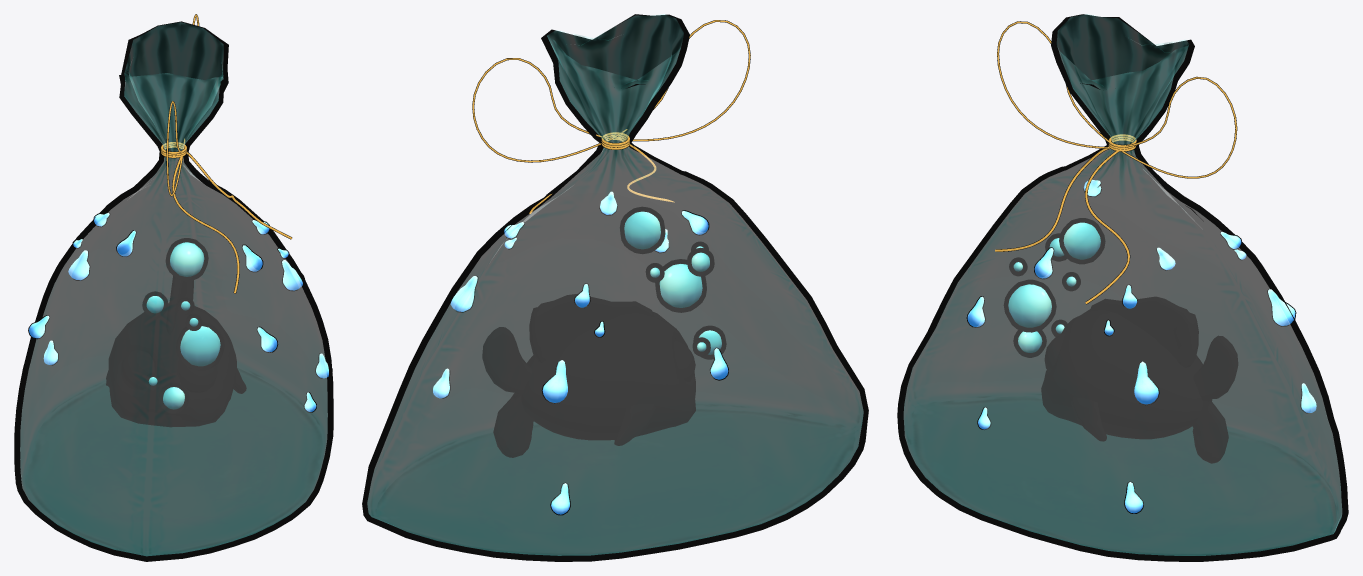
The model's file is grandprize_minigame.glb.
The picture shows the model from 3 angles, left to right: view 1: azimuth 30°, elevation 25°; view 2: azimuth 150°, elevation 25°; view 3: azimuth 270°, elevation 25°; orthographic projection. The views are drawn at different scales.
Parts seen in each view (by area): view 1: Sack_low (×2), Fish_low, Sphere_low (×2), Drop_low (×2), Rope_low (×2), Fisheye_low; view 2: Sack_low (×2), Fish_low, Sphere_low (×2), Drop_low (×2), Rope_low (×2), Fisheye_low; view 3: Sack_low (×2), Fish_low, Sphere_low (×2), Drop_low (×2), Rope_low (×2).
Part boxes in pixels (left/top/right/bottom): Sack_low (×2): left=14, top=21, right=333, bottom=561; Fish_low: left=106, top=275, right=246, bottom=427; Sphere_low (×2): left=142, top=238, right=224, bottom=413; Drop_low (×2): left=28, top=212, right=332, bottom=412; Rope_low (×2): left=160, top=14, right=292, bottom=293; Fisheye_low: left=120, top=350, right=217, bottom=392; Sack_low (×2): left=362, top=14, right=868, bottom=561; Fish_low: left=482, top=294, right=695, bottom=457; Sphere_low (×2): left=619, top=206, right=726, bottom=359; Drop_low (×2): left=433, top=191, right=728, bottom=515; Rope_low (×2): left=472, top=20, right=750, bottom=214; Fisheye_low: left=674, top=340, right=695, bottom=381; Sack_low (×2): left=897, top=14, right=1348, bottom=561; Fish_low: left=1041, top=296, right=1238, bottom=463; Sphere_low (×2): left=1003, top=218, right=1105, bottom=357; Drop_low (×2): left=966, top=179, right=1316, bottom=513; Rope_low (×2): left=995, top=21, right=1237, bottom=304.
Bounding box in the file's own units: 22.05 × 27.32 × 24.64.
Materials: 2 (1 with a texture image).
